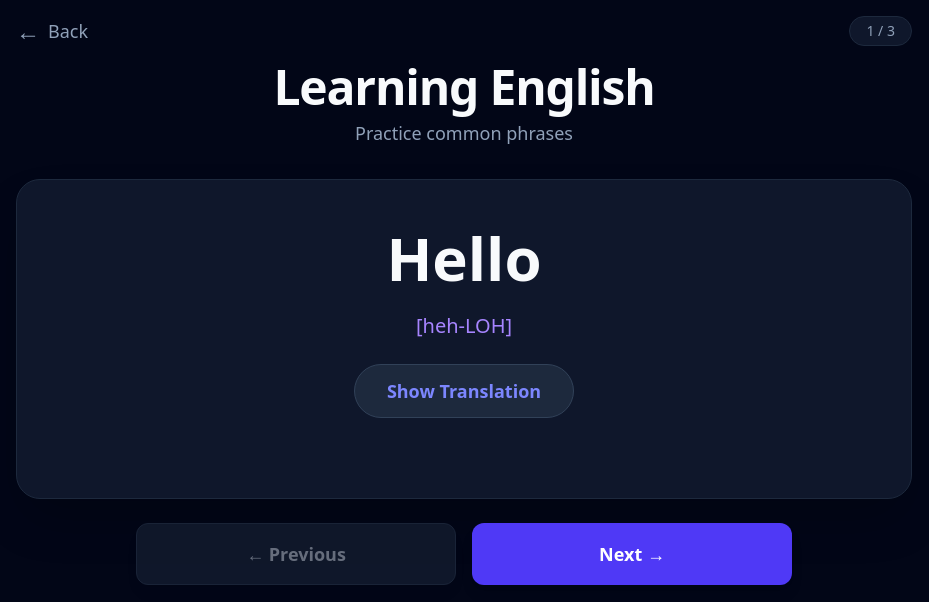
Learning › navigates to next phrase when next button is clicked
Expected: the text "Hello" is shown, [386, 217, 542, 299]
Click the button with aria-label "Next phrase" at (632, 554), box [472, 523, 792, 585]
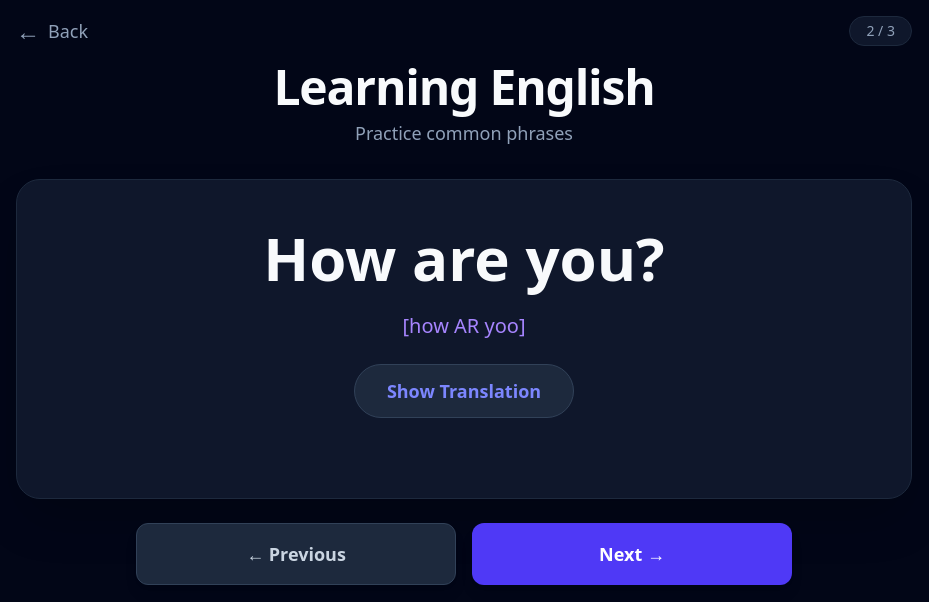
Now the text "How are you?" is shown, box [263, 217, 665, 299]
Now the text "Hello" is gone
